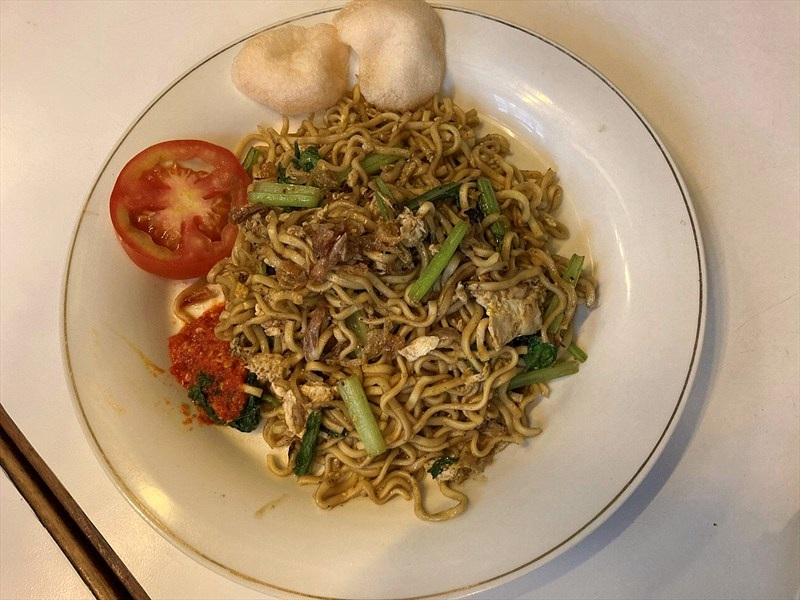Mie Goreng: (72, 109, 578, 511)
